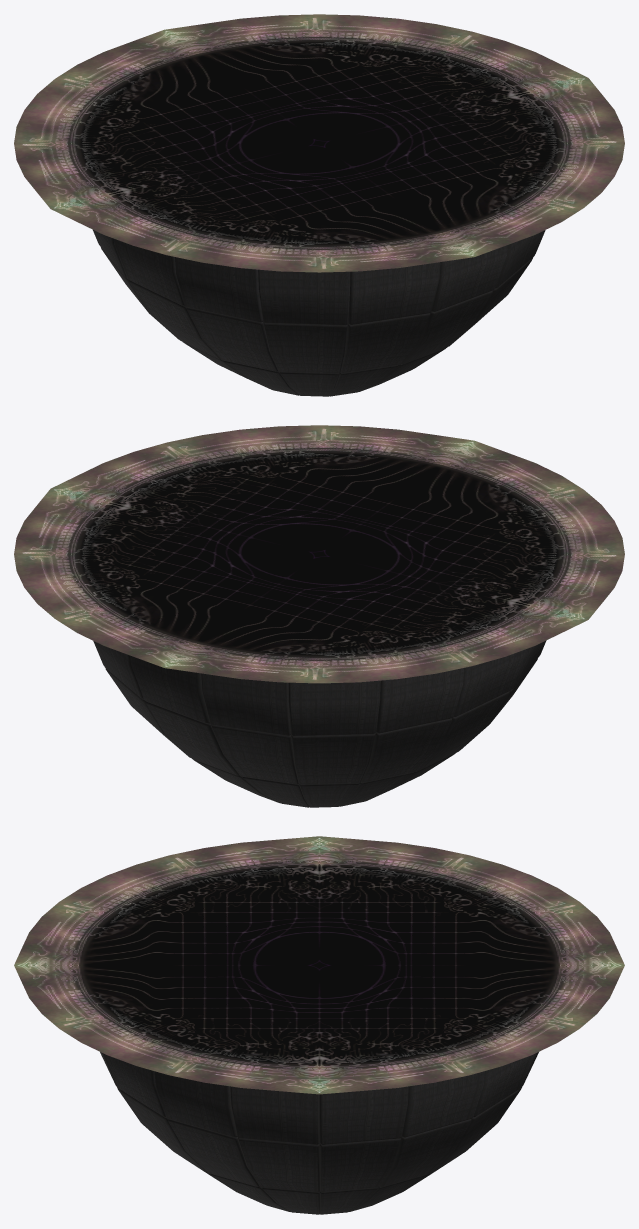
3 views of the same model, one above another, from view 1: azimuth 30°, elevation 25°; view 2: azimuth 150°, elevation 25°; view 3: azimuth 270°, elevation 25° (orthographic).
Parts seen in each view (by area): view 1: w1fz-s_ultima_boss.001, w1fz-s_ultima_boss.002, w1fz-s_ultima_boss.003; view 2: w1fz-s_ultima_boss.001, w1fz-s_ultima_boss.002, w1fz-s_ultima_boss.003; view 3: w1fz-s_ultima_boss.001, w1fz-s_ultima_boss.002, w1fz-s_ultima_boss.003.
Part boxes in pixels (<box>): w1fz-s_ultima_boss.001: <box>14,14,624,272</box>; w1fz-s_ultima_boss.002: <box>93,230,544,396</box>; w1fz-s_ultima_boss.003: <box>101,230,545,396</box>; w1fz-s_ultima_boss.001: <box>14,425,624,683</box>; w1fz-s_ultima_boss.002: <box>94,640,546,807</box>; w1fz-s_ultima_boss.003: <box>93,641,537,807</box>; w1fz-s_ultima_boss.001: <box>14,836,624,1094</box>; w1fz-s_ultima_boss.002: <box>100,1052,538,1214</box>; w1fz-s_ultima_boss.003: <box>102,1053,536,1214</box>.
Size of the model in its own units: 50.41 by 19.92 by 50.41.
Materials: 4 (4 with a texture image).
